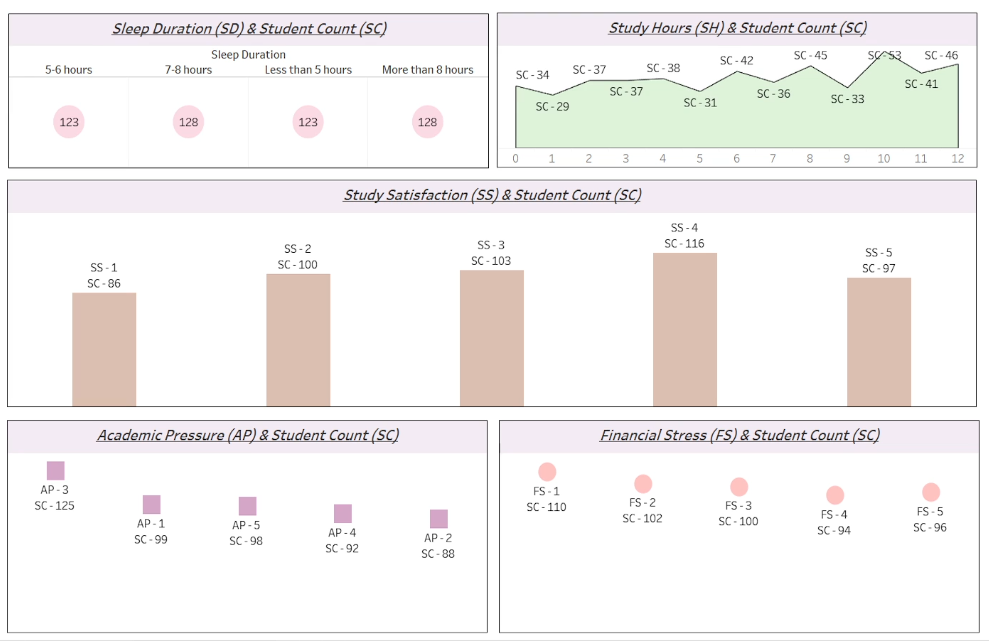

This screenshot's page, from the dashboard's own definition file:
{"tool":"tableau","page":{"name":"Dashboard 1","canvas":[1000,1000],"units":"permille","ordinal":0},"visuals":[{"type":"worksheet","title":"SD & SC","mark":"Pie","cols":["Sleep_Duration"],"box":[10.7,20.3,413.7,293.9]},{"type":"worksheet","title":"SH & SC","mark":"Area","rows":["Index_Column"],"cols":["Study_Hours"],"box":[426.2,20.3,412.8,293.9]},{"type":"worksheet","title":"SS & SC","mark":"Automatic","rows":["Index_Column"],"cols":["Study_Satisfaction"],"box":[10.7,317.6,828.3,329.4]},{"type":"worksheet","title":"AP & SC","mark":"Square","rows":["Index_Column"],"cols":["Academic_Pressure"],"box":[9.8,650.3,413.7,329.4]},{"type":"worksheet","title":"FS & SC","mark":"Circle","rows":["Index_Column"],"cols":["Financial_Stress"],"box":[425.3,650.3,413.7,329.4]}]}

Visuals, with their boxes on the dashboard's canvas, which has no fixed pixel size, in thousandths of its width and height (x1, y1, x2, y2). These are canvas units, not pixel positions in the 989x641 screenshot, which may show the page scaled, cropped or inside an application window:
"SD & SC" worksheet (Pie marks): (11, 20, 424, 314)
"SH & SC" worksheet (Area marks): (426, 20, 839, 314)
"SS & SC" worksheet: (11, 318, 839, 647)
"AP & SC" worksheet (Square marks): (10, 650, 424, 980)
"FS & SC" worksheet (Circle marks): (425, 650, 839, 980)
